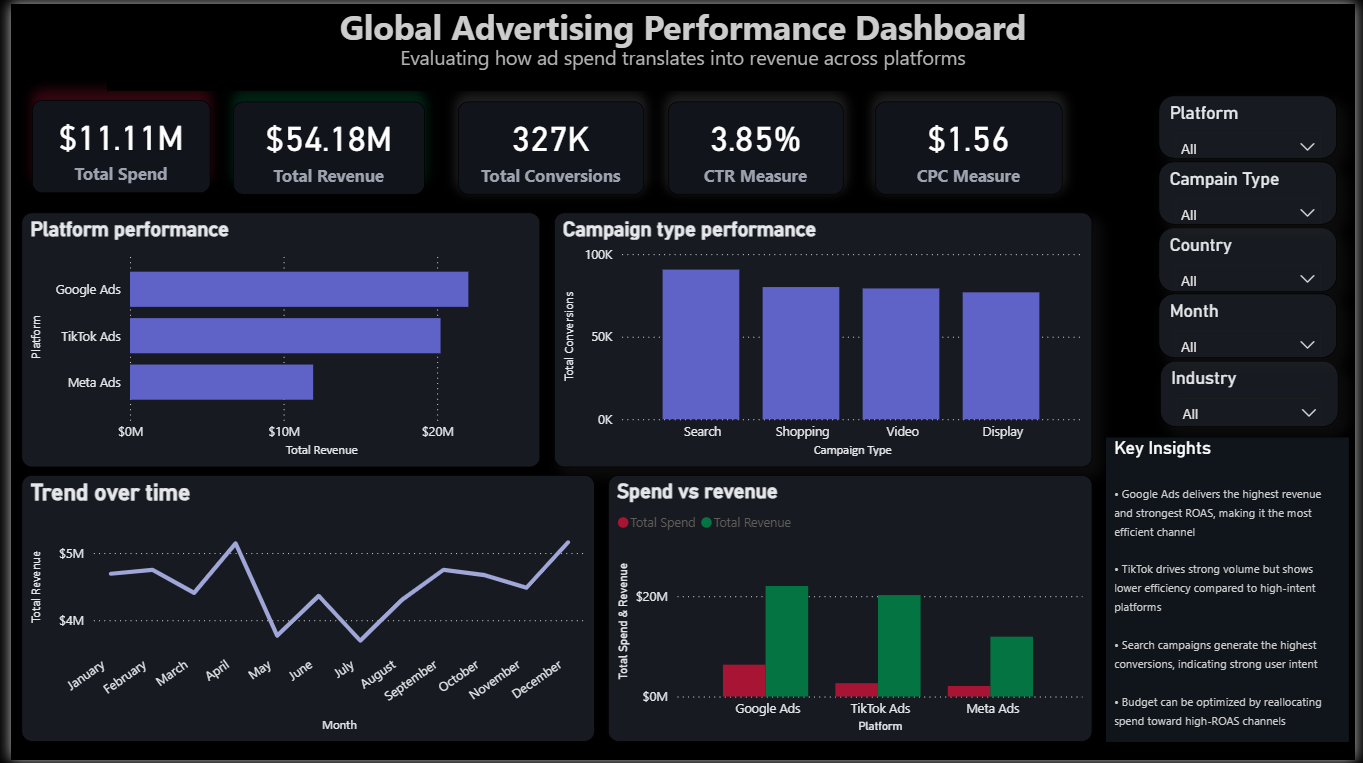

What the dashboard file says about the page in this screenshot:
{"tool":"powerbi","page":{"name":"Page 1","canvas":[1280,720],"ordinal":0},"visuals":[{"type":"card","title":"Total Spends","fields":{"Values":["global_ads_performance_dataset.Total Spend"]},"box":[20,91,170,88.6],"z":0},{"type":"card","title":"Total Conversions","fields":{"Values":["global_ads_performance_dataset.Total Conversions"]},"box":[425.4,92.5,177.1,88.6],"z":1000},{"type":"card","title":"CTR Measure","fields":{"Values":["global_ads_performance_dataset.CTR Measure"]},"box":[625.4,92.5,167.1,88.6],"z":2000},{"type":"card","title":"CPC Measure","fields":{"Values":["global_ads_performance_dataset.CPC Measure"]},"box":[822.5,92.5,178.6,88.6],"z":3000},{"type":"card","title":"Total Revenue ($)","fields":{"Values":["global_ads_performance_dataset.Total Revenue"]},"box":[211.1,92.5,182.9,88.6],"z":4000},{"type":"clusteredBarChart","title":"Platform performance","fields":{"Category":["global_ads_performance_dataset.platform"],"Y":["global_ads_performance_dataset.Total Revenue"]},"box":[10,198.6,494.3,242.9],"z":5000},{"type":"clusteredColumnChart","title":"Campaign type performance","fields":{"Category":["global_ads_performance_dataset.campaign_type"],"Y":["global_ads_performance_dataset.Total Conversions"]},"box":[517.1,198.6,512.9,242.9],"z":6000},{"type":"clusteredColumnChart","title":"Spend vs revenue","fields":{"Category":["global_ads_performance_dataset.platform"],"Y":["global_ads_performance_dataset.Total Spend","global_ads_performance_dataset.Total Revenue"]},"box":[568.6,448.6,461.4,254.3],"z":7000},{"type":"lineChart","title":"Trend over time","fields":{"Y":["global_ads_performance_dataset.Total Revenue"],"Category":["global_ads_performance_dataset.date.Variation.Date Hierarchy.Year","global_ads_performance_dataset.date.Variation.Date Hierarchy.Quarter","global_ads_performance_dataset.date.Variation.Date Hierarchy.Month","global_ads_performance_dataset.date.Variation.Date Hierarchy.Day"]},"box":[10,448.6,545.7,254.3],"z":8000},{"type":"slicer","title":"Platform","fields":{"Values":["global_ads_performance_dataset.platform"]},"box":[1092.9,87.1,170,60],"z":9000},{"type":"slicer","title":"Country","fields":{"Values":["global_ads_performance_dataset.country"]},"box":[1092.9,212.9,170,61.4],"z":10000},{"type":"slicer","title":"Industry","fields":{"Values":["global_ads_performance_dataset.industry"]},"box":[1094.3,340,170,62.9],"z":11000},{"type":"slicer","title":"Month","fields":{"Values":["global_ads_performance_dataset.Month"]},"box":[1092.9,275.7,170,61.4],"z":12000},{"type":"slicer","title":"Campain Type","fields":{"Values":["global_ads_performance_dataset.campaign_type"]},"box":[1092.9,150,170,60],"z":13000},{"type":"textbox","title":"Global Advertising Performance Dashboard","box":[91.4,0,1097.1,82.9],"z":14000},{"type":"shape","box":[1042.9,412.9,231.4,290],"z":15000},{"type":"textbox","title":"Key Insights","box":[1045.7,412.9,217.1,290],"z":16000}]}

Visuals, with their boxes in screenshot pixels (x1, y1, x2, y2), scaled from the page's 1280x720 canvas onto the 1363x763 screenshot:
"Total Spends" card: 21 96 202 190
"Total Conversions" card: 453 98 642 192
"CTR Measure" card: 666 98 844 192
"CPC Measure" card: 876 98 1066 192
"Total Revenue ($)" card: 225 98 420 192
"Platform performance" clusteredBarChart: 11 210 537 468
"Campaign type performance" clusteredColumnChart: 551 210 1097 468
"Spend vs revenue" clusteredColumnChart: 605 475 1097 745
"Trend over time" lineChart: 11 475 592 745
"Platform" slicer: 1164 92 1345 156
"Country" slicer: 1164 226 1345 291
"Industry" slicer: 1165 360 1346 427
"Month" slicer: 1164 292 1345 357
"Campain Type" slicer: 1164 159 1345 223
"Global Advertising Performance Dashboard" textbox: 97 0 1266 88
shape: 1111 438 1357 745
"Key Insights" textbox: 1114 438 1345 745
